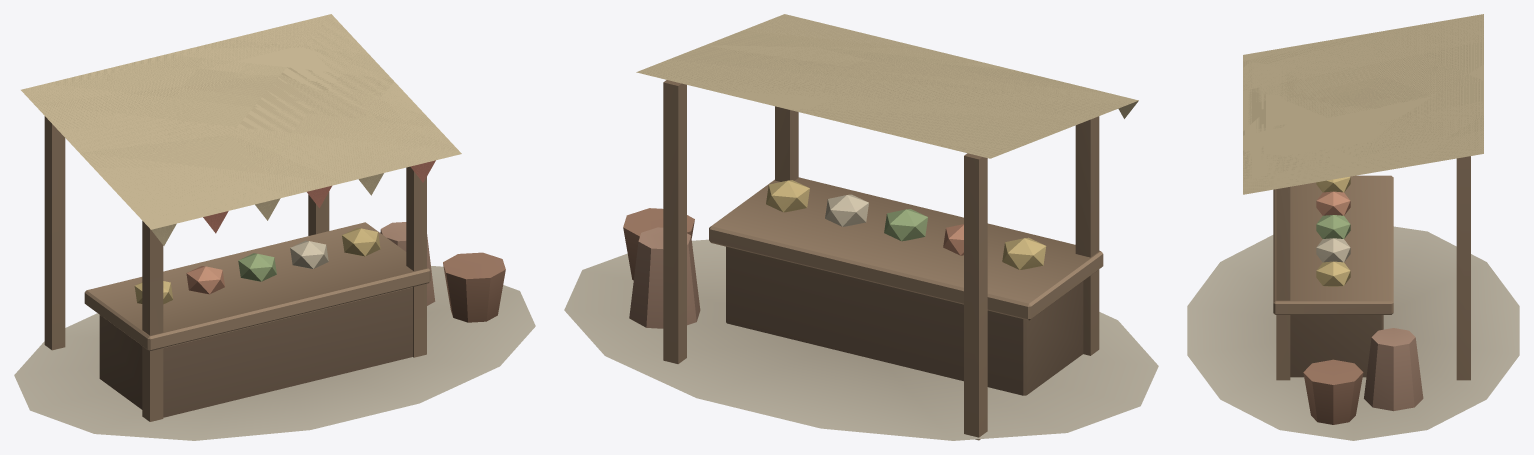
The model's file is stall_2.glb.
3 views of the same model, side by side, from view 1: azimuth 30°, elevation 25°; view 2: azimuth 150°, elevation 25°; view 3: azimuth 270°, elevation 25° (orthographic). The views are drawn at different scales.
Visible parts, largest first — view 1: stall_2; view 2: stall_2; view 3: stall_2.
Part boxes in pixels (x1,y1,x2,y2): stall_2: (14,14,535,440); stall_2: (564,14,1158,440); stall_2: (1187,14,1519,440).
Bounding box in the file's own units: 5.2 × 2.6 × 3.31.
